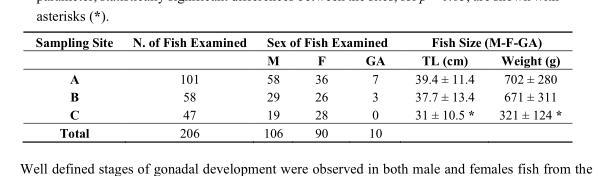table: (34, 34, 561, 139)
table column: (122, 34, 254, 139), (34, 34, 122, 139), (400, 34, 486, 139), (486, 34, 561, 139), (346, 34, 400, 139), (298, 34, 346, 139), (254, 34, 298, 139)
table column header: (34, 34, 561, 69)
table row: (34, 50, 561, 69), (34, 69, 561, 87), (34, 87, 561, 105), (34, 105, 561, 123), (34, 34, 561, 50), (34, 123, 561, 139)
table spanning cell: (122, 34, 254, 69), (34, 34, 122, 69), (400, 34, 561, 50), (254, 34, 400, 50)
